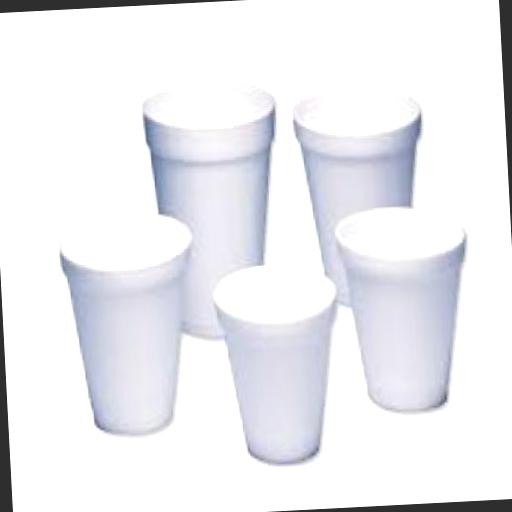paper: (138, 79, 288, 342), (55, 206, 200, 437), (289, 79, 429, 308), (332, 201, 476, 413), (208, 259, 345, 463)
